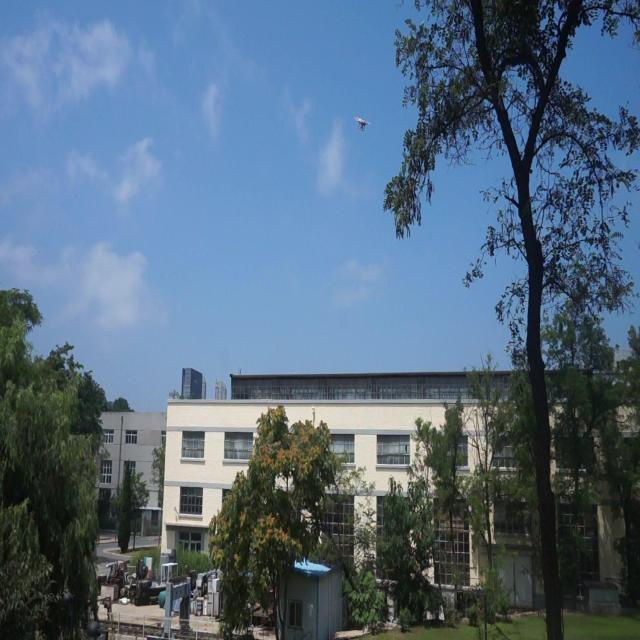drone: (352, 111, 376, 137)
